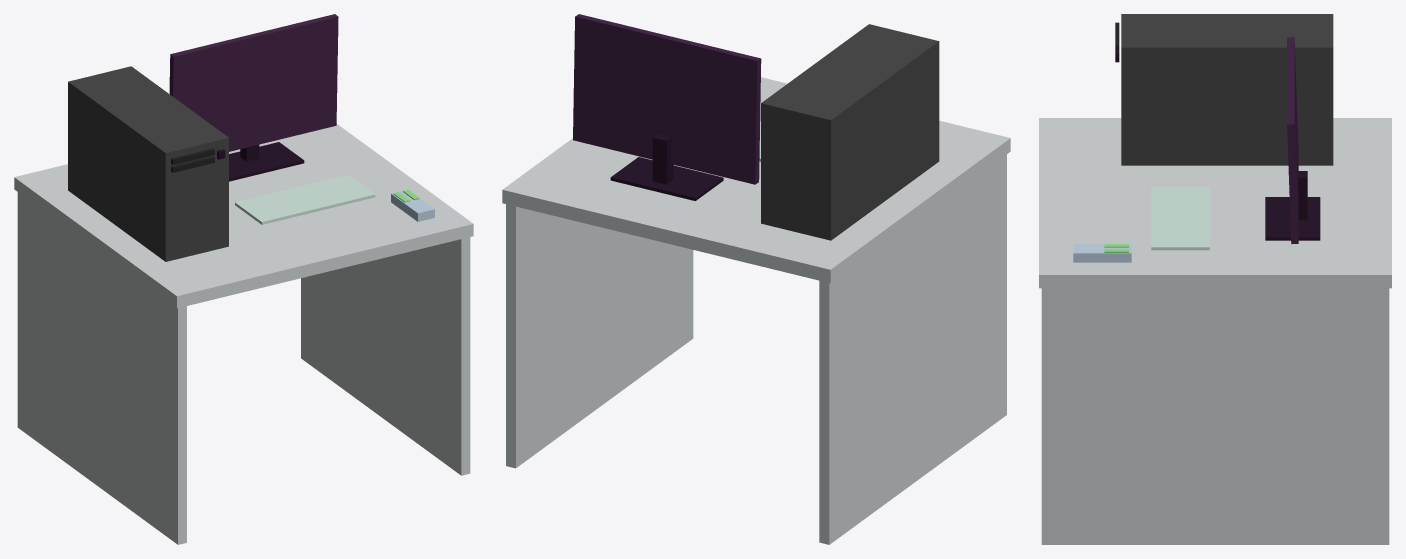
3 views of the same model, side by side, from view 1: azimuth 30°, elevation 25°; view 2: azimuth 150°, elevation 25°; view 3: azimuth 270°, elevation 25° (orthographic). The views are drawn at different scales.
Parts seen in each view (by area): view 1: Cube.001, Куб, Cube.002, Куб.002, Куб.004, Куб.005, Куб.001, Куб.006; view 2: Cube.001, Cube.002, Куб.002, Куб, Куб.004, Куб.001, Куб.003; view 3: Cube.002, Куб, Куб.002, Куб.005, Куб.004, Куб.001, Куб.006, Куб.003.
Part boxes in pixels (<box>): Cube.001: <box>17,192,186,544</box>; Куб: <box>14,124,473,308</box>; Cube.002: <box>301,237,470,475</box>; Куб.002: <box>68,66,228,261</box>; Куб.004: <box>169,14,338,151</box>; Куб.005: <box>235,175,375,224</box>; Куб.001: <box>229,142,304,181</box>; Куб.006: <box>391,189,434,221</box>; Cube.001: <box>819,154,1006,544</box>; Cube.002: <box>506,204,693,468</box>; Куб.002: <box>761,24,939,240</box>; Куб: <box>502,77,1010,283</box>; Куб.004: <box>573,14,761,184</box>; Куб.001: <box>610,157,723,200</box>; Куб.003: <box>652,134,673,184</box>; Cube.002: <box>1041,288,1389,544</box>; Куб: <box>1039,118,1391,288</box>; Куб.002: <box>1121,14,1333,165</box>; Куб.005: <box>1151,187,1209,250</box>; Куб.004: <box>1287,37,1298,244</box>; Куб.001: <box>1265,197,1320,240</box>; Куб.006: <box>1073,244,1131,262</box>; Куб.003: <box>1298,171,1307,220</box>.
Size of the model in its own units: 7.57 by 9.23 by 7.19.
